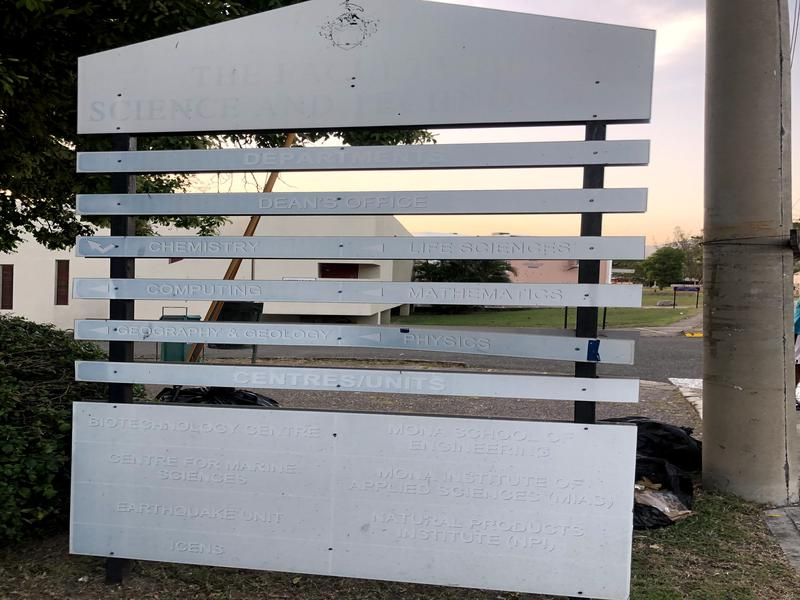18.0055634_-76.7484079_scitechsign: (59, 1, 683, 600)
